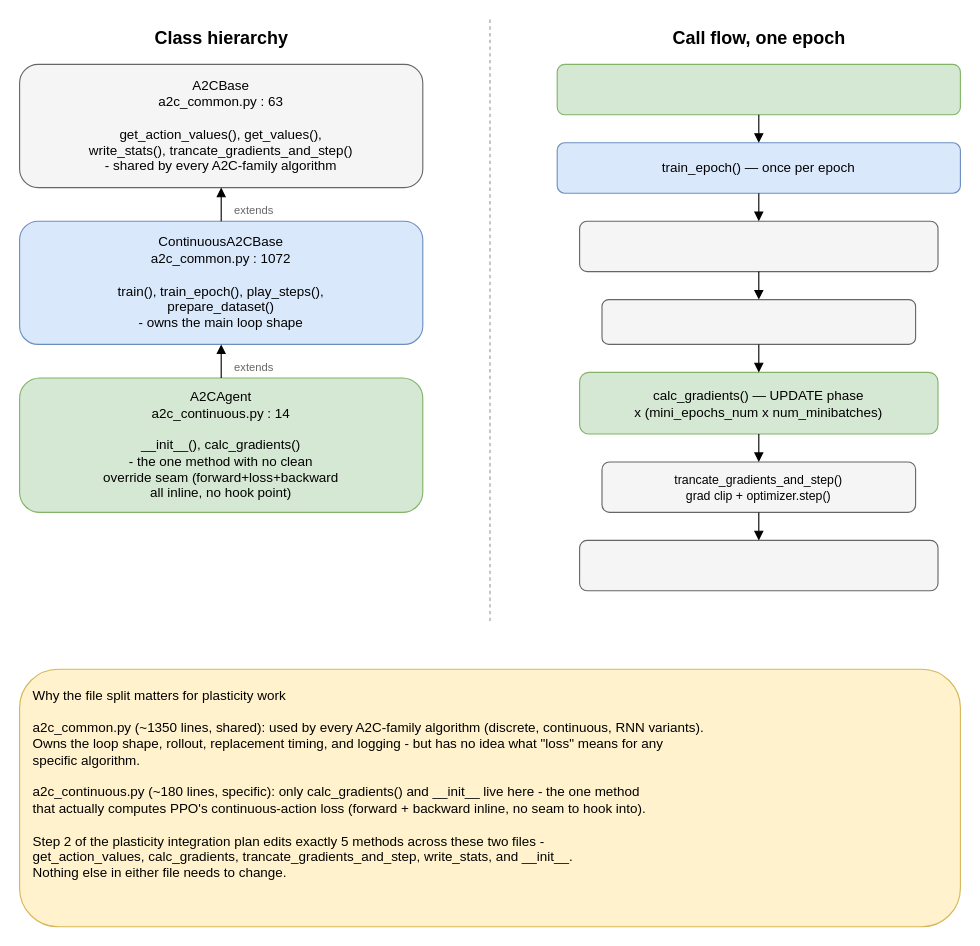
The diagram is 980 pixels wide and 946 high, and some of its shapes have lost their labels. Each missing label, with the box of its shape:
get_action_values() x horizon_length steps: (601, 298, 916, 344)
play_steps() — ROLLOUT phase: (578, 220, 938, 272)
train() — loops forever: (556, 63, 960, 115)
write_stats() — once per epoch, logs to TensorBoard: (578, 539, 938, 591)
